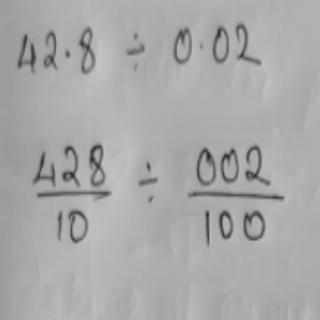.: (193, 38, 208, 54), (62, 49, 76, 61)
0: (195, 145, 221, 186), (219, 146, 243, 187), (211, 27, 231, 70), (241, 208, 267, 241), (173, 26, 193, 65), (216, 207, 234, 240), (72, 207, 88, 244)
1: (55, 210, 68, 245), (201, 207, 212, 248)
2: (237, 21, 264, 67), (244, 144, 269, 185), (41, 26, 61, 74), (61, 143, 80, 185)
4: (13, 32, 41, 79), (37, 152, 60, 188)
8: (85, 138, 111, 188), (77, 26, 98, 81)
